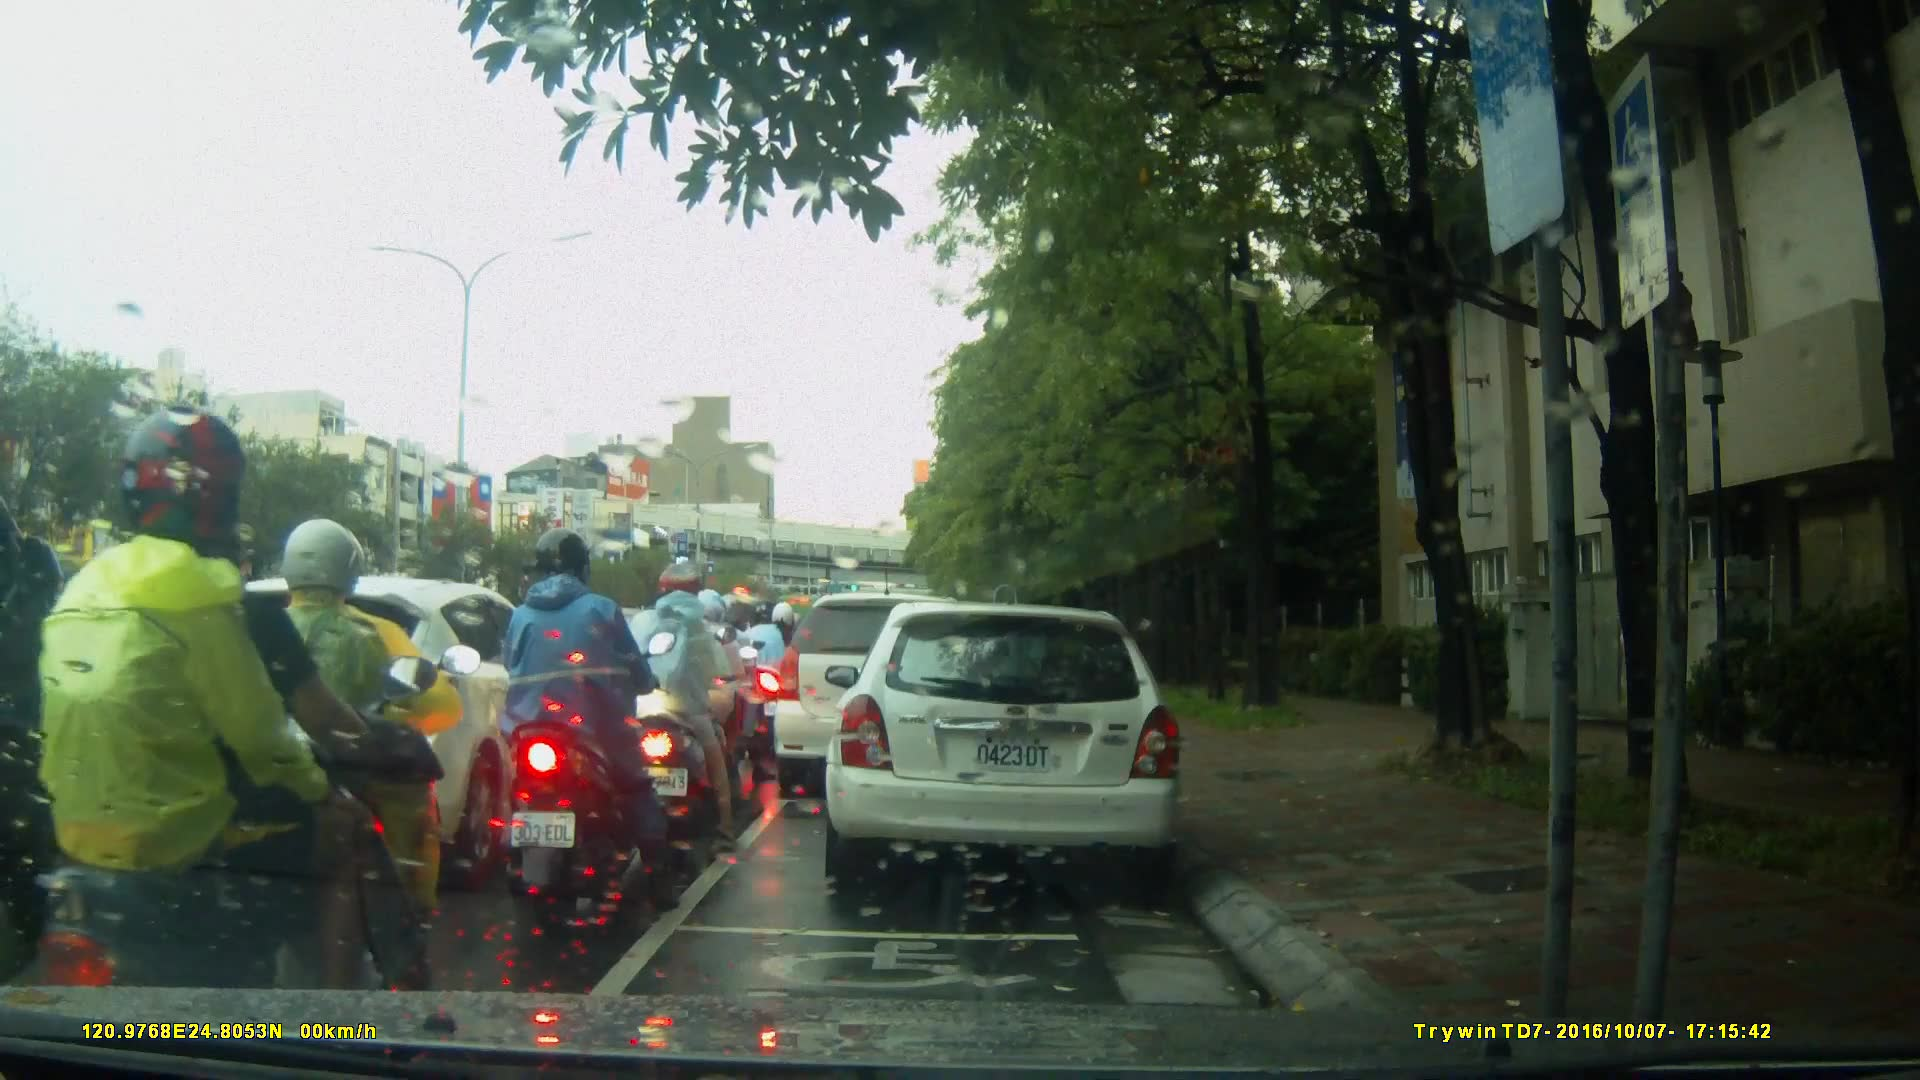rider: (38, 408, 428, 1055), (236, 522, 477, 1004), (498, 528, 682, 911), (613, 560, 736, 843), (656, 585, 761, 823), (737, 598, 796, 751)
vehicle: (177, 575, 603, 861), (822, 604, 1188, 883), (774, 595, 995, 802)
